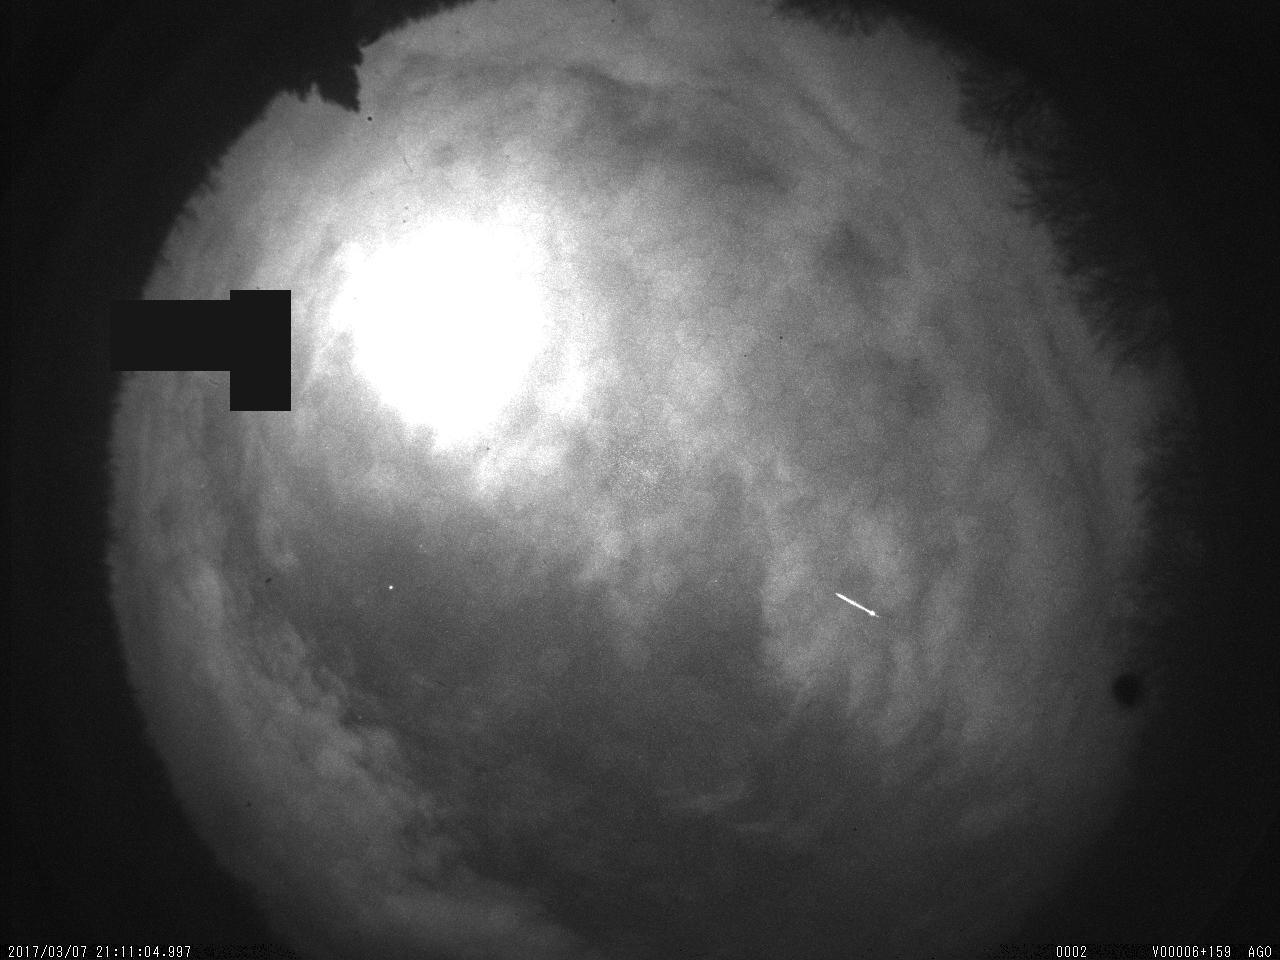Meteor: (833, 590, 879, 619)
